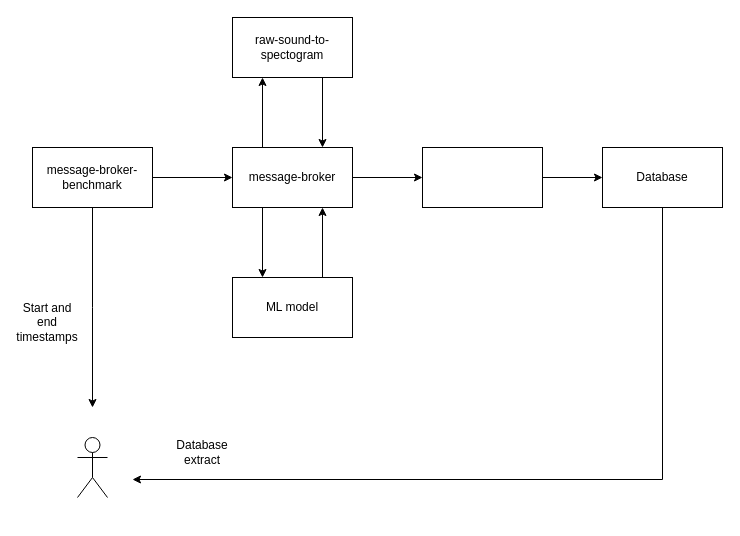
Some shapes in this 740 by 536 pixel diagram are drawn without their labels. Each missing label, with the centre of its shape:
Conductor: point (92, 467)
Database inserter: point (482, 177)
